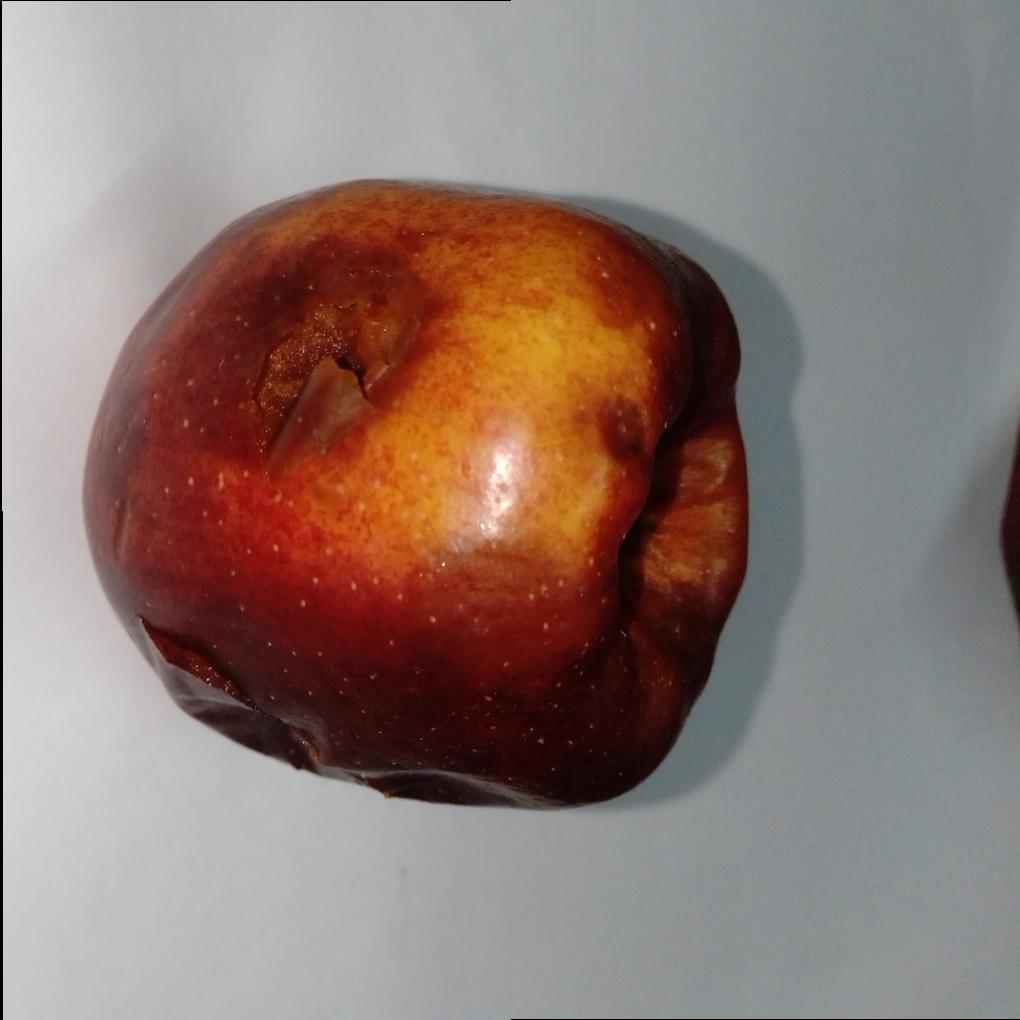FreshOrange: (79, 179, 750, 814)
